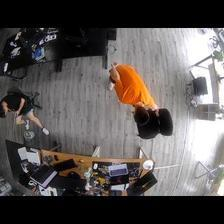normal: (104, 61, 156, 125), (1, 88, 52, 136)
